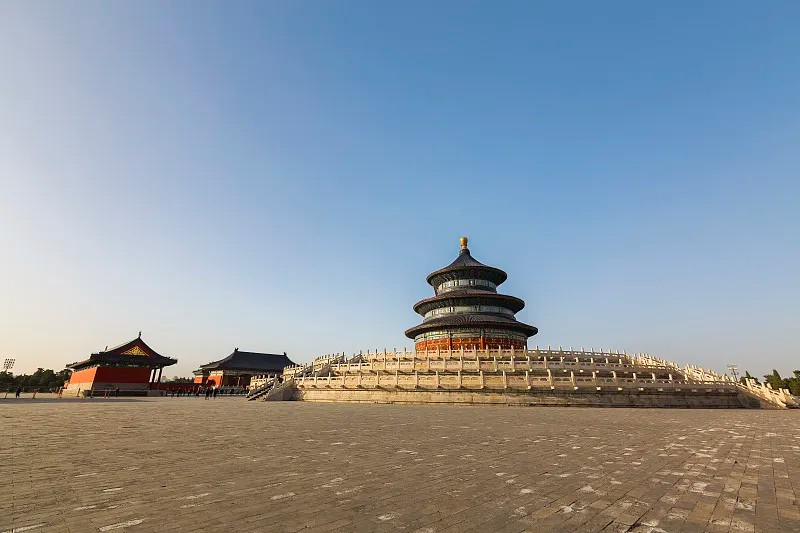Heaven: (405, 236, 539, 352)
